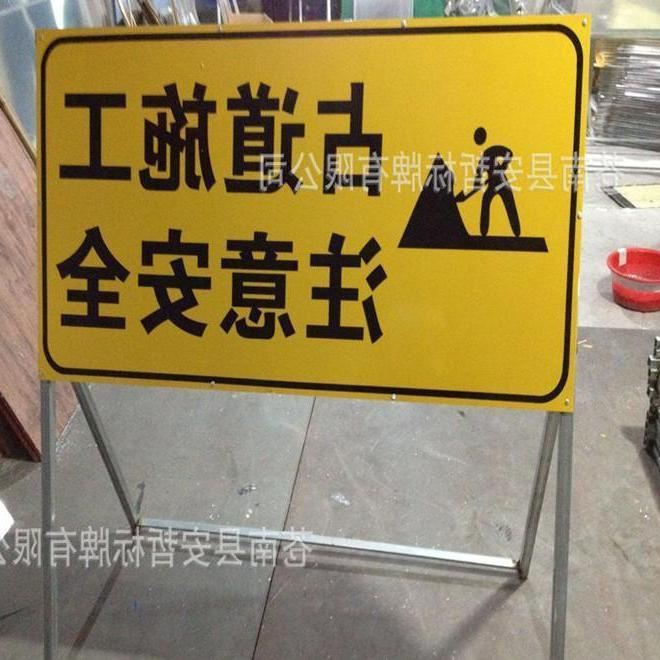sign: (35, 10, 590, 417)
